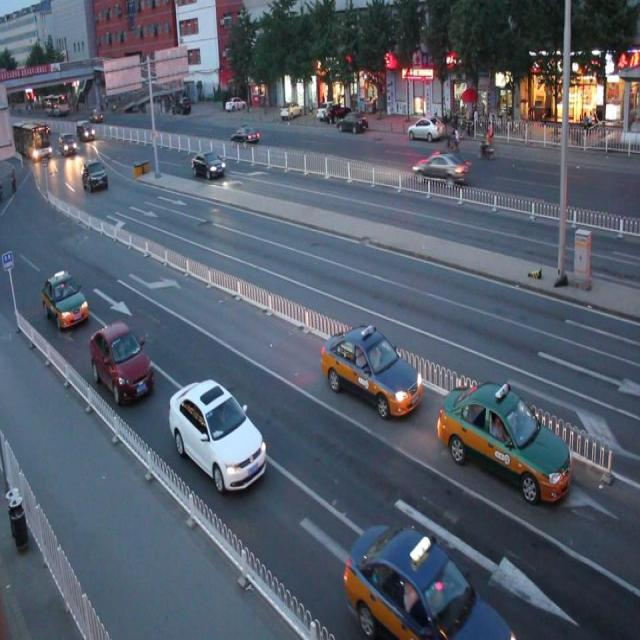car: (344, 520, 514, 640), (437, 377, 572, 502), (168, 377, 268, 491), (322, 323, 422, 418), (89, 322, 154, 402), (42, 272, 90, 330), (412, 150, 470, 187), (191, 150, 226, 179), (231, 124, 259, 144)
